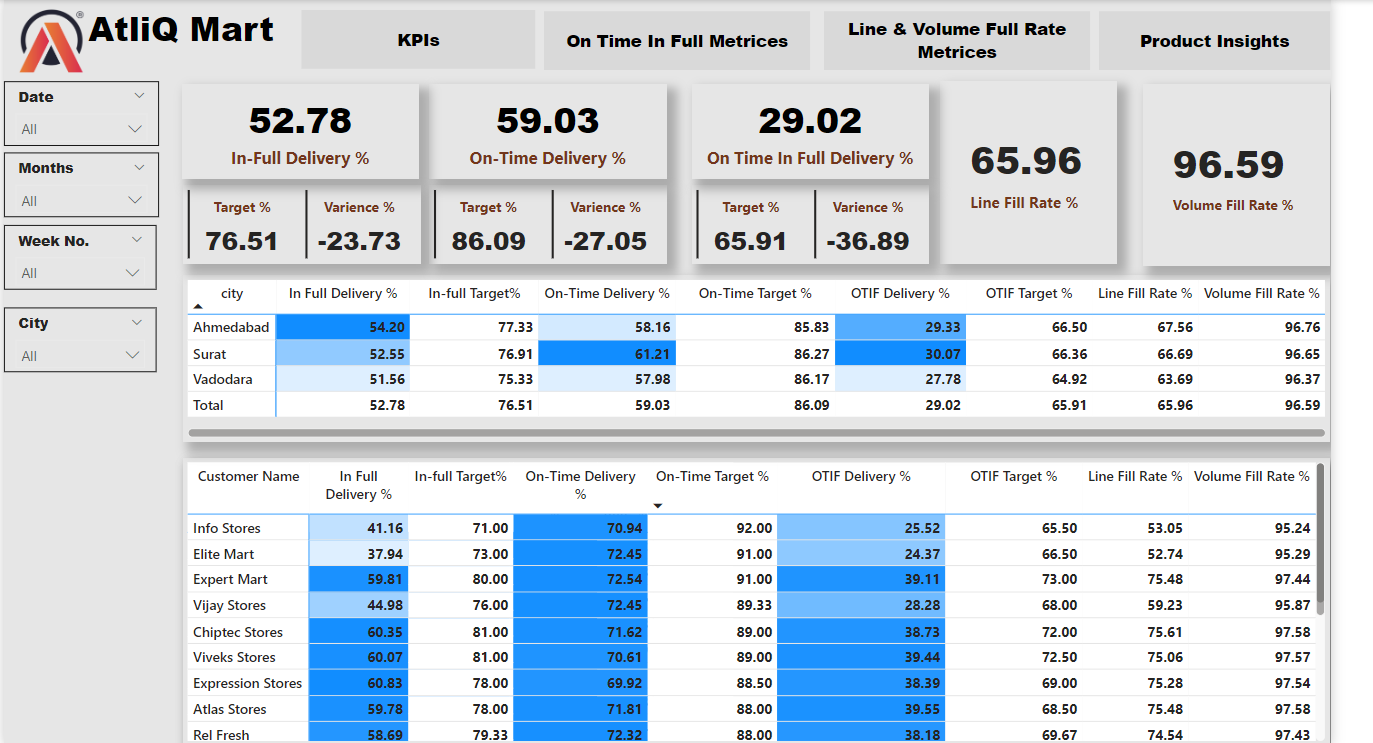

The dashboard page shown, as its layout file describes it:
{"tool":"powerbi","page":{"name":"KPIs","canvas":[1280,720],"ordinal":0},"visuals":[{"type":"textbox","box":[9.7,0,290.8,78.4],"z":0},{"type":"image","box":[10,0,74,78.2],"z":1000},{"type":"slicer","fields":{"Values":["dim_date.date"]},"box":[0,78.4,149.6,62.7],"z":2000},{"type":"slicer","fields":{"Values":["dim_date.mmm_yy.Variation.Date Hierarchy.Month"]},"box":[0,147.2,149.6,62.7],"z":3000},{"type":"slicer","fields":{"Values":["dim_date.week_no"]},"box":[0,217.2,147.2,62.7],"z":4000},{"type":"slicer","fields":{"Values":["dim_customers.city"]},"box":[0,296.8,147.2,62.7],"z":5000},{"type":"actionButton","box":[287.1,9.7,225.6,56.7],"z":6000},{"type":"actionButton","box":[521.2,10.9,257,56.7],"z":7000},{"type":"actionButton","box":[791.4,10.9,257,56.7],"z":8000},{"type":"actionButton","box":[1056.8,10.9,223.2,56.7],"z":9000},{"type":"card","fields":{"Values":["fact_orders_aggregate.In-Full Delivery %"]},"box":[171.3,80.8,229.2,91.7],"z":10000},{"type":"card","fields":{"Values":["fact_orders_aggregate.On-Time Delivery %"]},"box":[410.2,80.8,229.2,91.7],"z":11000},{"type":"card","fields":{"Values":["fact_orders_aggregate.OTIF Delivery %"]},"box":[663.5,80.8,229.2,91.7],"z":12000},{"type":"cardVisual","fields":{"Data":["fact_orders_aggregate.OTIF Target %","fact_orders_aggregate.OTIF Varience %"]},"box":[663.5,178.6,229.2,76],"z":13000},{"type":"cardVisual","fields":{"Data":["fact_orders_aggregate.On-Time Target %","fact_orders_aggregate.Varience On Time %"]},"box":[410.2,178.6,229.2,76],"z":14000},{"type":"cardVisual","fields":{"Data":["fact_orders_aggregate.In-full Target%","fact_orders_aggregate.varience In-Full%"]},"box":[172.5,178.6,229.2,76],"z":15000},{"type":"cardVisual","fields":{"Data":["fact_order_lines.Line Fill Rate %"]},"box":[903.6,78.4,170.1,176.1],"z":16000},{"type":"cardVisual","fields":{"Data":["fact_order_lines.Volume Fill Rate %"]},"box":[1099.1,80.8,181,176.1],"z":17000},{"type":"pivotTable","fields":{"Rows":["dim_customers.customer_name"],"Values":["fact_orders_aggregate.In-Full Delivery %","fact_orders_aggregate.On-Time Delivery %","fact_orders_aggregate.OTIF Delivery %","fact_order_lines.Line Fill Rate %","fact_order_lines.Volume Fill Rate %"]},"box":[172.5,441.6,1107.5,278.7],"z":18000},{"type":"pivotTable","fields":{"Rows":["dim_customers.customer_name"],"Values":["fact_orders_aggregate.In-Full Delivery %","fact_orders_aggregate.In-full Target%","fact_orders_aggregate.On-Time Delivery %","fact_orders_aggregate.On-Time Target %","fact_orders_aggregate.OTIF Delivery %","fact_orders_aggregate.OTIF Target %","fact_order_lines.Line Fill Rate %","fact_order_lines.Volume Fill Rate %"]},"box":[172.5,441.3,1107.5,278.7],"z":19000},{"type":"pivotTable","fields":{"Values":["fact_orders_aggregate.In-Full Delivery %","fact_orders_aggregate.In-full Target%","fact_orders_aggregate.On-Time Delivery %","fact_orders_aggregate.On-Time Target %","fact_orders_aggregate.OTIF Delivery %","fact_orders_aggregate.OTIF Target %","fact_order_lines.Line Fill Rate %","fact_order_lines.Volume Fill Rate %"],"Rows":["dim_customers.city"]},"box":[172.5,265.4,1107.5,161.7],"z":20000}]}

Visuals, with their boxes on the page's 1280x720 design canvas (x1, y1, x2, y2). These are canvas units, not pixel positions in the 1373x743 screenshot, which may show the page scaled, cropped or inside an application window:
textbox: (10, 0, 300, 78)
image: (10, 0, 84, 78)
slicer - dim_date.date: (0, 78, 150, 141)
slicer - dim_date.mmm_yy.Variation.Date Hierarchy.Month: (0, 147, 150, 210)
slicer - dim_date.week_no: (0, 217, 147, 280)
slicer - dim_customers.city: (0, 297, 147, 360)
actionButton: (287, 10, 513, 66)
actionButton: (521, 11, 778, 68)
actionButton: (791, 11, 1048, 68)
actionButton: (1057, 11, 1280, 68)
card - fact_orders_aggregate.In-Full Delivery %: (171, 81, 400, 172)
card - fact_orders_aggregate.On-Time Delivery %: (410, 81, 639, 172)
card - fact_orders_aggregate.OTIF Delivery %: (664, 81, 893, 172)
cardVisual - fact_orders_aggregate.OTIF Target % x fact_orders_aggregate.OTIF Varience %: (664, 179, 893, 255)
cardVisual - fact_orders_aggregate.On-Time Target % x fact_orders_aggregate.Varience On Time %: (410, 179, 639, 255)
cardVisual - fact_orders_aggregate.In-full Target% x fact_orders_aggregate.varience In-Full%: (172, 179, 402, 255)
cardVisual - fact_order_lines.Line Fill Rate %: (904, 78, 1074, 254)
cardVisual - fact_order_lines.Volume Fill Rate %: (1099, 81, 1280, 257)
pivotTable - dim_customers.customer_name x fact_orders_aggregate.In-Full Delivery %: (172, 442, 1280, 720)
pivotTable - dim_customers.customer_name x fact_orders_aggregate.In-Full Delivery %: (172, 441, 1280, 720)
pivotTable - fact_orders_aggregate.In-Full Delivery % x fact_orders_aggregate.In-full Target%: (172, 265, 1280, 427)
